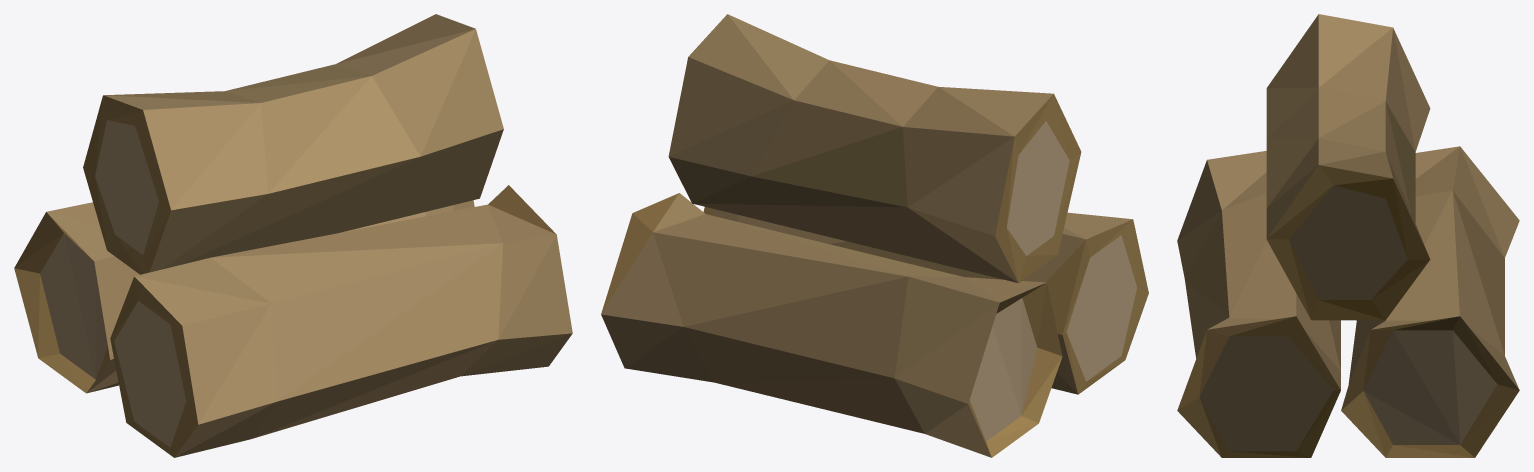
Rendered from logs.fbx.
3 views of the same model, side by side, from view 1: azimuth 30°, elevation 25°; view 2: azimuth 150°, elevation 25°; view 3: azimuth 270°, elevation 25° (orthographic). The views are drawn at different scales.
Visible parts, largest first — view 1: Item Oak logs 2024-03-25_20-57-32; view 2: Item Oak logs 2024-03-25_20-57-32; view 3: Item Oak logs 2024-03-25_20-57-32.
Part boxes in pixels (x1=…): Item Oak logs 2024-03-25_20-57-32: x1=14, y1=14, x2=572, y2=457; Item Oak logs 2024-03-25_20-57-32: x1=601, y1=14, x2=1148, y2=457; Item Oak logs 2024-03-25_20-57-32: x1=1177, y1=14, x2=1519, y2=457.
Bounding box in the file's own units: 5400 × 4200 × 4600.
